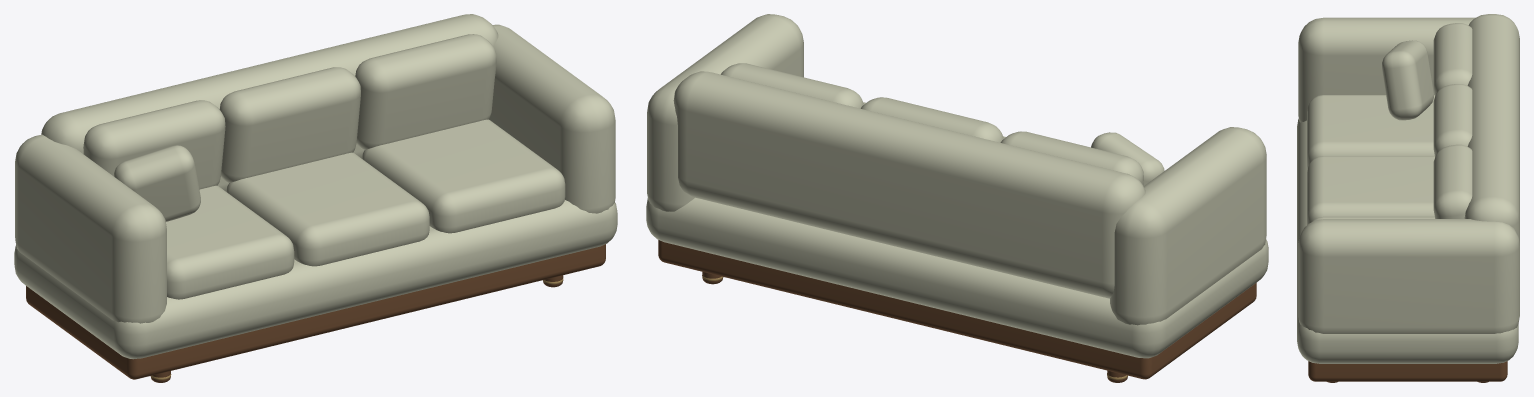
File: sofa.glb
3 views of the same model, side by side, from view 1: azimuth 30°, elevation 25°; view 2: azimuth 150°, elevation 25°; view 3: azimuth 270°, elevation 25° (orthographic). The views are drawn at different scales.
Parts seen in each view (by area): view 1: Accent cushion, Solid walnut plinth; view 2: Accent cushion, Solid walnut plinth; view 3: Accent cushion, Solid walnut plinth.
Part boxes in pixels (left/top/right/bottom): Accent cushion: left=14, top=14, right=617, bottom=359; Solid walnut plinth: left=26, top=244, right=605, bottom=382; Accent cushion: left=646, top=14, right=1268, bottom=358; Solid walnut plinth: left=658, top=240, right=1256, bottom=382; Accent cushion: left=1297, top=14, right=1519, bottom=363; Solid walnut plinth: left=1308, top=361, right=1507, bottom=382.
Bounding box in the file's own units: 2.4 × 0.9251 × 1.01.
